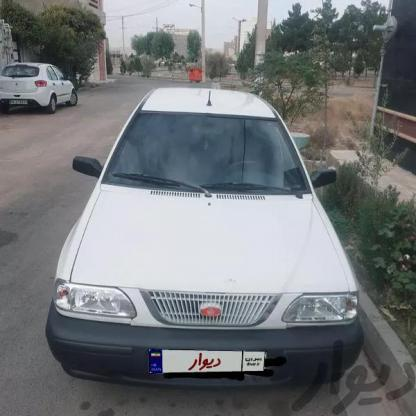Car: (41, 86, 366, 403), (0, 51, 80, 122)
